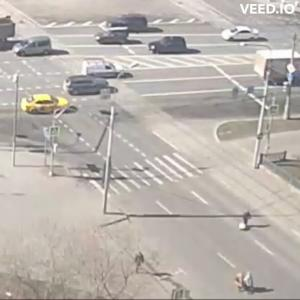car: (20, 97, 72, 118), (79, 59, 130, 79), (17, 38, 60, 61), (67, 75, 114, 95), (151, 36, 195, 54), (104, 14, 158, 28), (1, 12, 22, 45), (223, 27, 266, 43), (98, 30, 134, 48)
